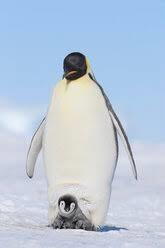emporer: (19, 46, 147, 241)
